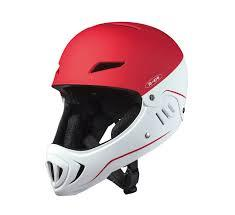helmet: (38, 15, 199, 202)
